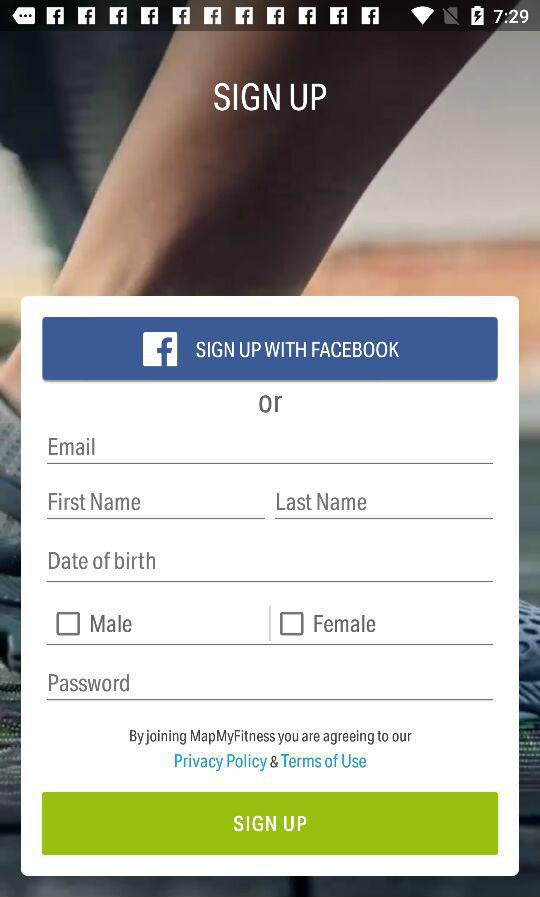BackgroundImage: (1, 33, 540, 897)
CheckedTextView: (280, 611, 377, 637), (56, 611, 134, 637)
EditText: (47, 551, 494, 583), (47, 437, 494, 465), (47, 673, 494, 701), (47, 492, 266, 520), (275, 492, 494, 520)
Text: (130, 728, 413, 772), (213, 83, 327, 113), (49, 552, 156, 570), (50, 492, 141, 511), (277, 493, 367, 511), (49, 674, 130, 693), (313, 614, 376, 633), (49, 437, 96, 456), (91, 614, 133, 633), (259, 394, 283, 414)
TextButton: (43, 317, 499, 382), (42, 792, 499, 856)
UpperTaskBar: (1, 1, 540, 33)
